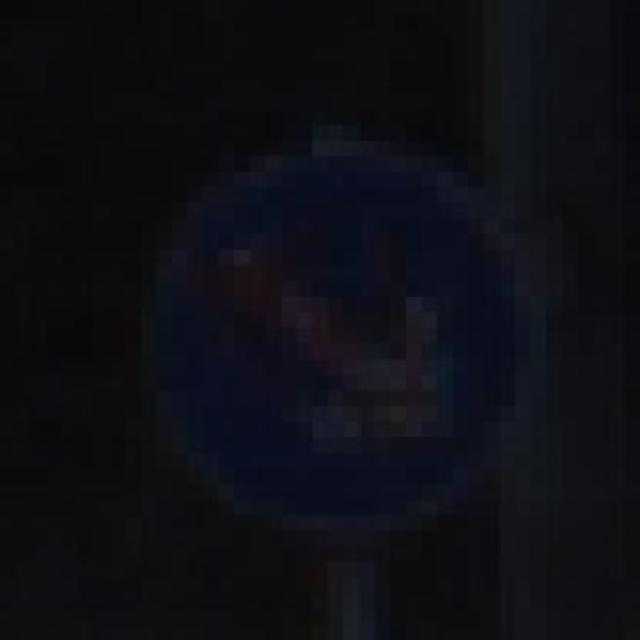Keep-Right: (140, 140, 531, 515)
